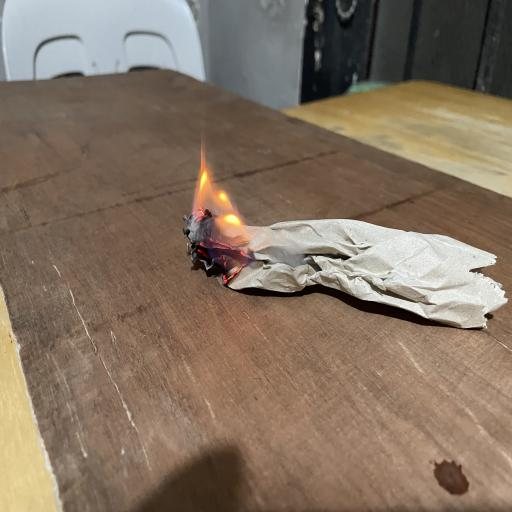fire: (182, 142, 273, 294)
